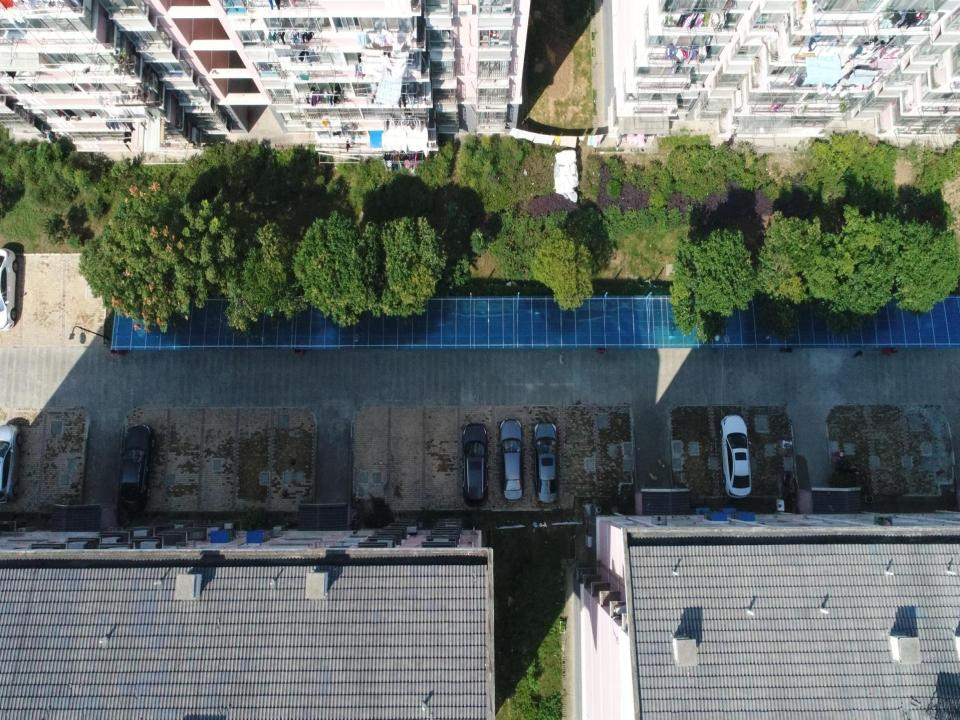car: (120, 424, 155, 514), (719, 413, 752, 498), (498, 417, 526, 502), (461, 423, 489, 507), (532, 421, 558, 503), (0, 424, 22, 504), (0, 248, 19, 332)
